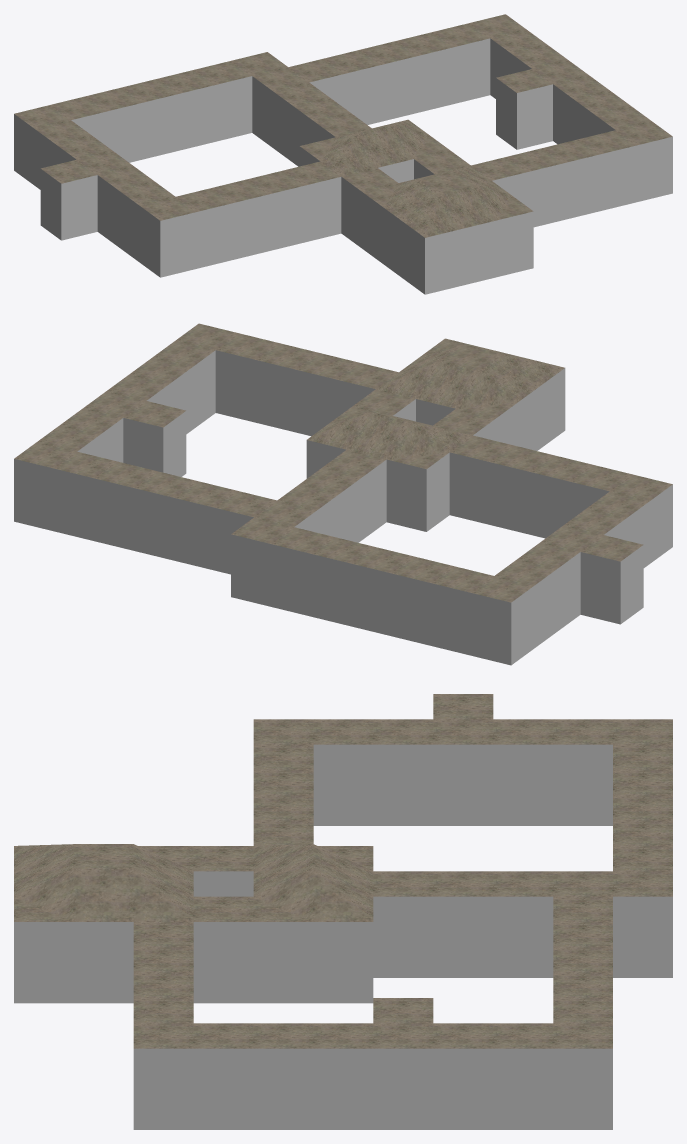
File: Indoor.obj
The picture shows the model from 3 angles, top to bottom: view 1: azimuth 30°, elevation 25°; view 2: azimuth 150°, elevation 25°; view 3: azimuth 270°, elevation 25°; orthographic projection. The views are drawn at different scales.
Visible parts, largest first — view 1: grp2, grp1; view 2: grp2, grp1; view 3: grp2, grp1.
Part boxes in pixels (bbox=[...]): grp2: bbox=[14, 38, 672, 294]; grp1: bbox=[14, 14, 672, 237]; grp2: bbox=[14, 350, 672, 665]; grp1: bbox=[14, 323, 672, 602]; grp2: bbox=[14, 744, 672, 1129]; grp1: bbox=[14, 694, 672, 1048].
Bounding box in the file's own units: 420 × 60 × 330.
